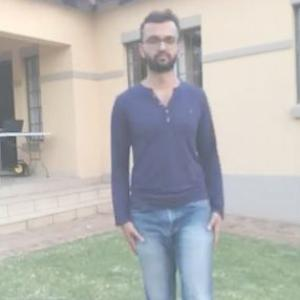follow: (110, 22, 215, 299)
